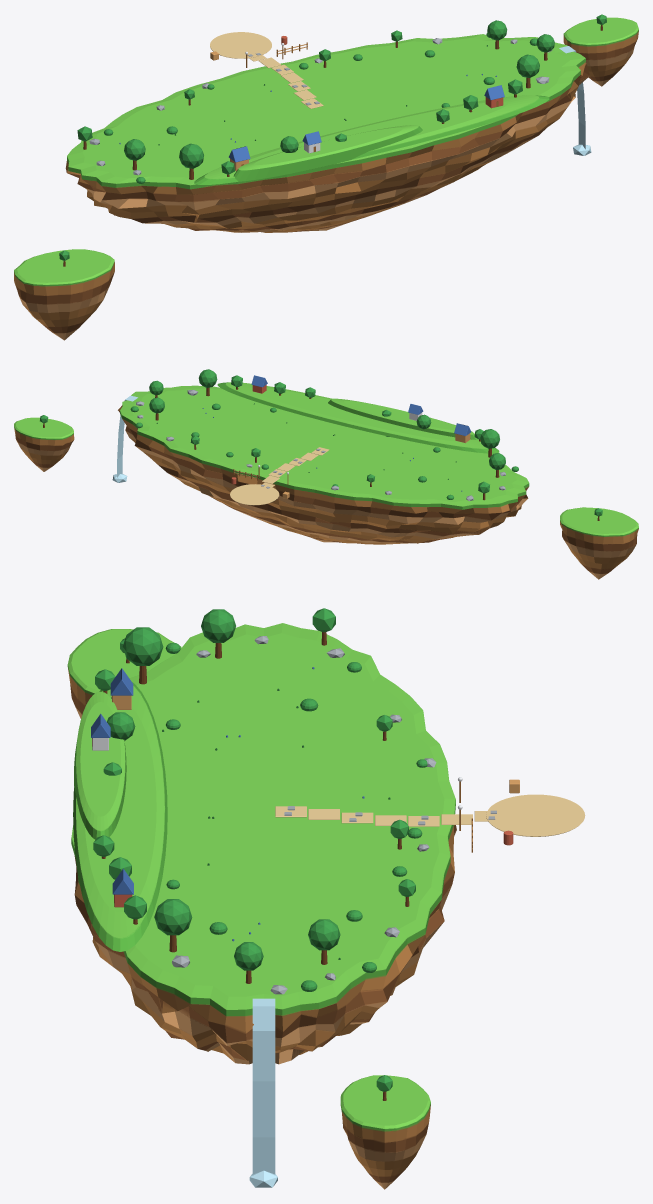
The model's file is Island_Sunnyville_LOD0.fbx.
3 views of the same model, one above another, from view 1: azimuth 30°, elevation 25°; view 2: azimuth 150°, elevation 25°; view 3: azimuth 270°, elevation 25° (orthographic). The views are drawn at different scales.
Visible parts, largest first — view 1: Island_Sunnyville_Mesh, Island_Sunnyville, VFX_Waterfall_Placeholder; view 2: Island_Sunnyville_Mesh, Island_Sunnyville, VFX_Waterfall_Placeholder; view 3: Island_Sunnyville_Mesh, Island_Sunnyville, VFX_Waterfall_Placeholder.
Part boxes in pixels (left/top/right/bottom): Island_Sunnyville_Mesh: left=65, top=20, right=589, bottom=232; Island_Sunnyville: left=14, top=14, right=638, bottom=340; VFX_Waterfall_Placeholder: left=559, top=46, right=591, bottom=155; Island_Sunnyville_Mesh: left=118, top=369, right=529, bottom=544; Island_Sunnyville: left=14, top=415, right=638, bottom=579; VFX_Waterfall_Placeholder: left=112, top=395, right=137, bottom=482; Island_Sunnyville_Mesh: left=71, top=608, right=585, bottom=1064; Island_Sunnyville: left=67, top=629, right=430, bottom=1189; VFX_Waterfall_Placeholder: left=249, top=998, right=277, bottom=1187.
Size of what is drawn, in the model's own units: 84.81 by 18.59 by 34.26.
2 materials, 1 textured.
